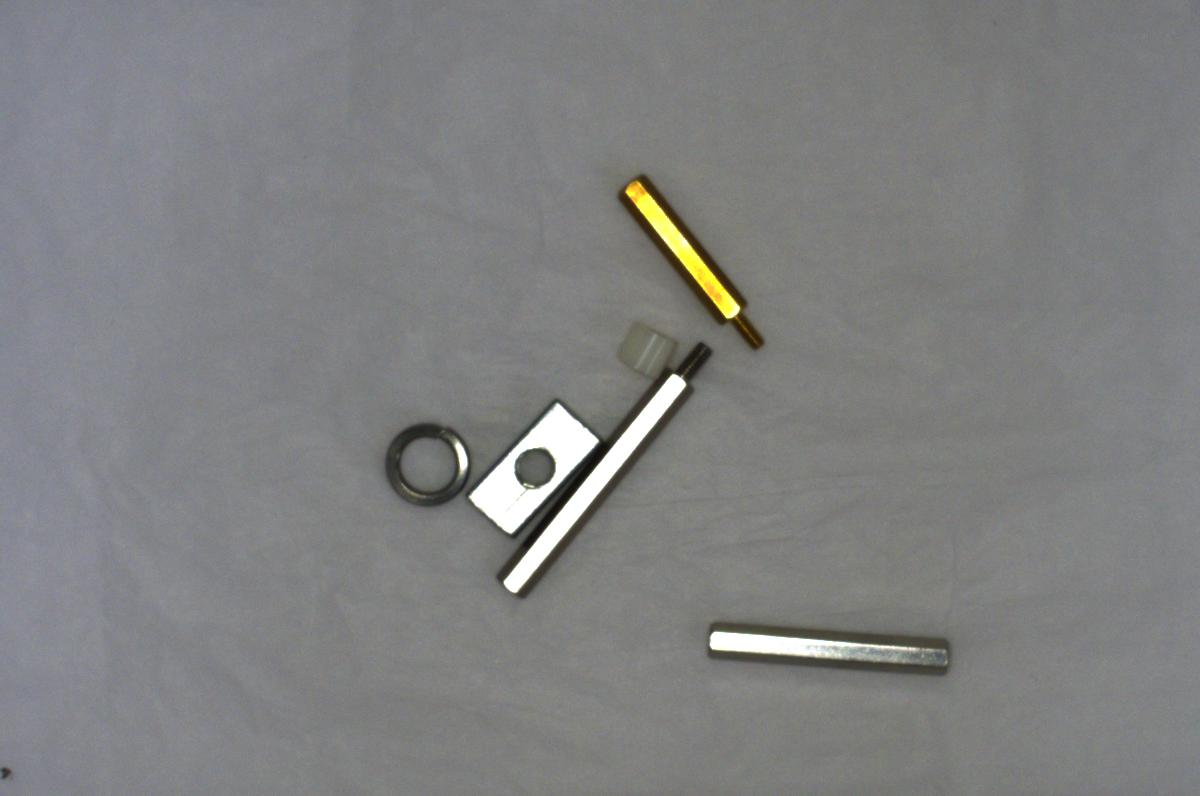Double hexagonal column: (696, 605, 966, 696)
Hexagon pillar: (616, 172, 771, 359)
Hexagonal steel column: (496, 340, 712, 595)
Plastic cushion pillar: (608, 313, 680, 378)
Rectangular nut: (471, 398, 605, 532)
Spring washer: (369, 417, 470, 509)
